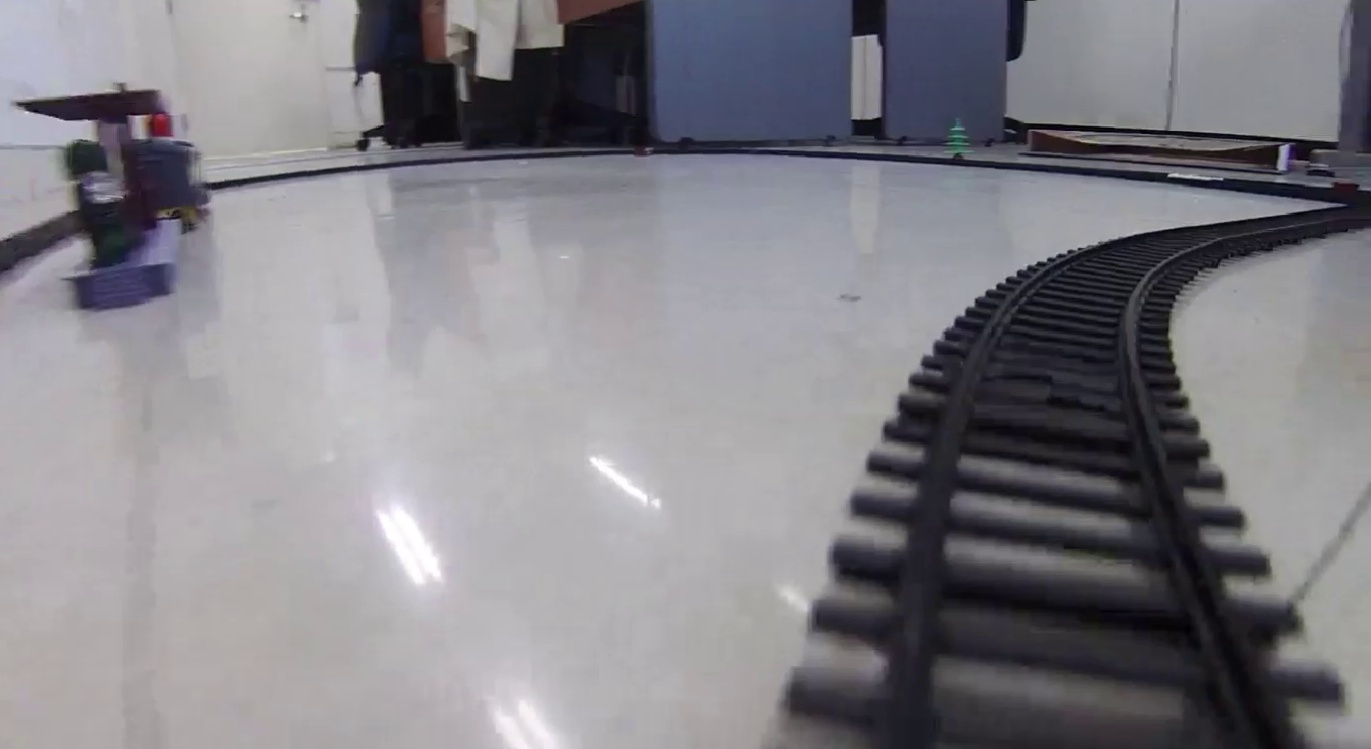people: (61, 138, 142, 266)
